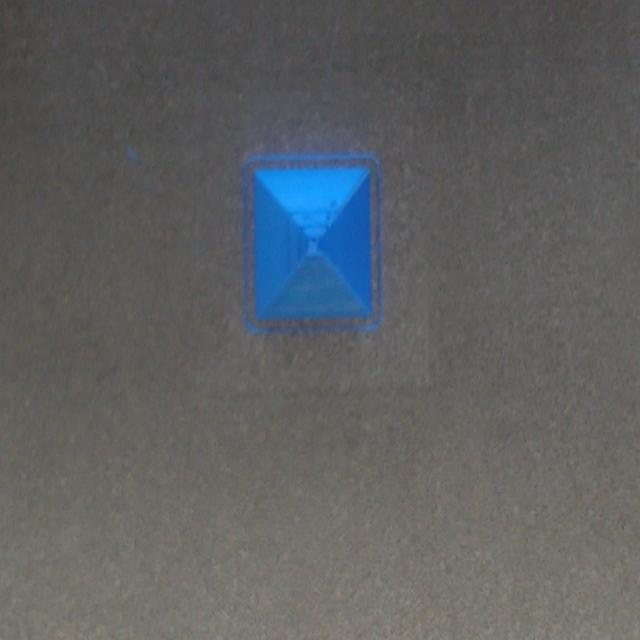mistake: (294, 194, 339, 267)
